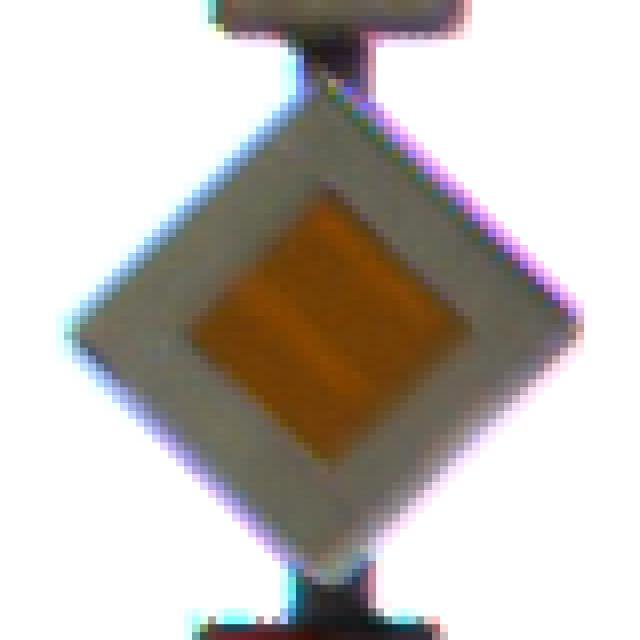Main Road: (57, 64, 585, 586)
